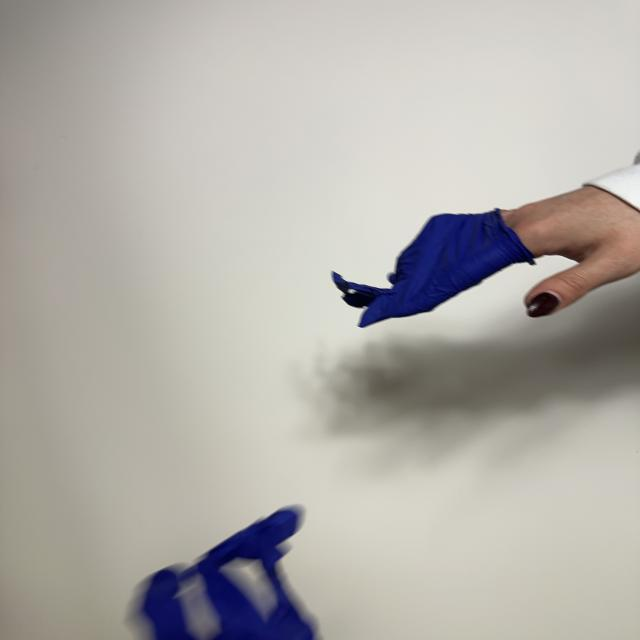glove_partial: (332, 185, 640, 327)
